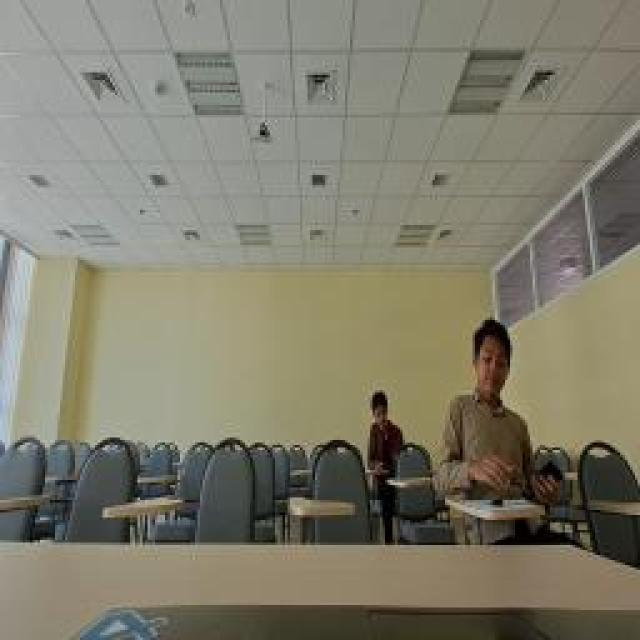study: (435, 320, 537, 502), (365, 390, 405, 472)
